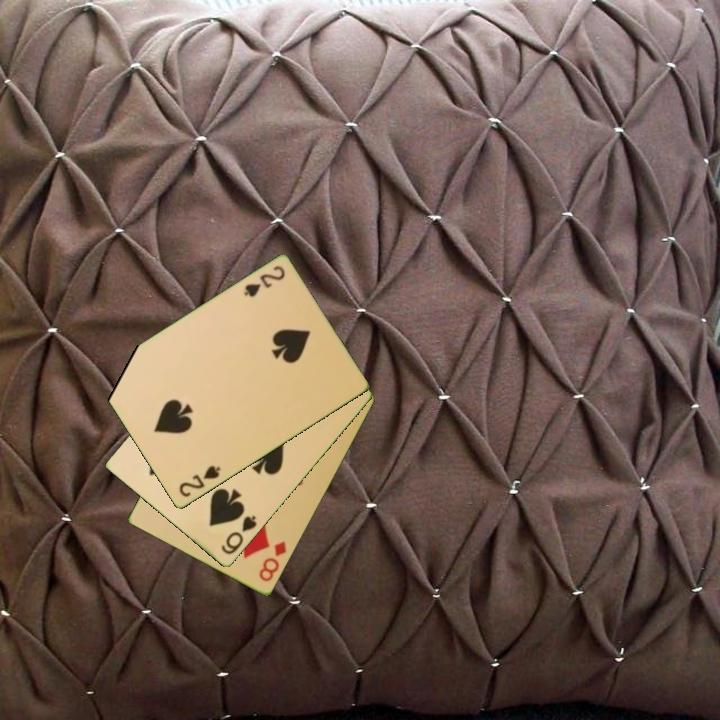2s: (175, 462, 224, 501), (240, 262, 288, 300)
6s: (218, 512, 260, 558)
8d: (255, 538, 289, 585)
